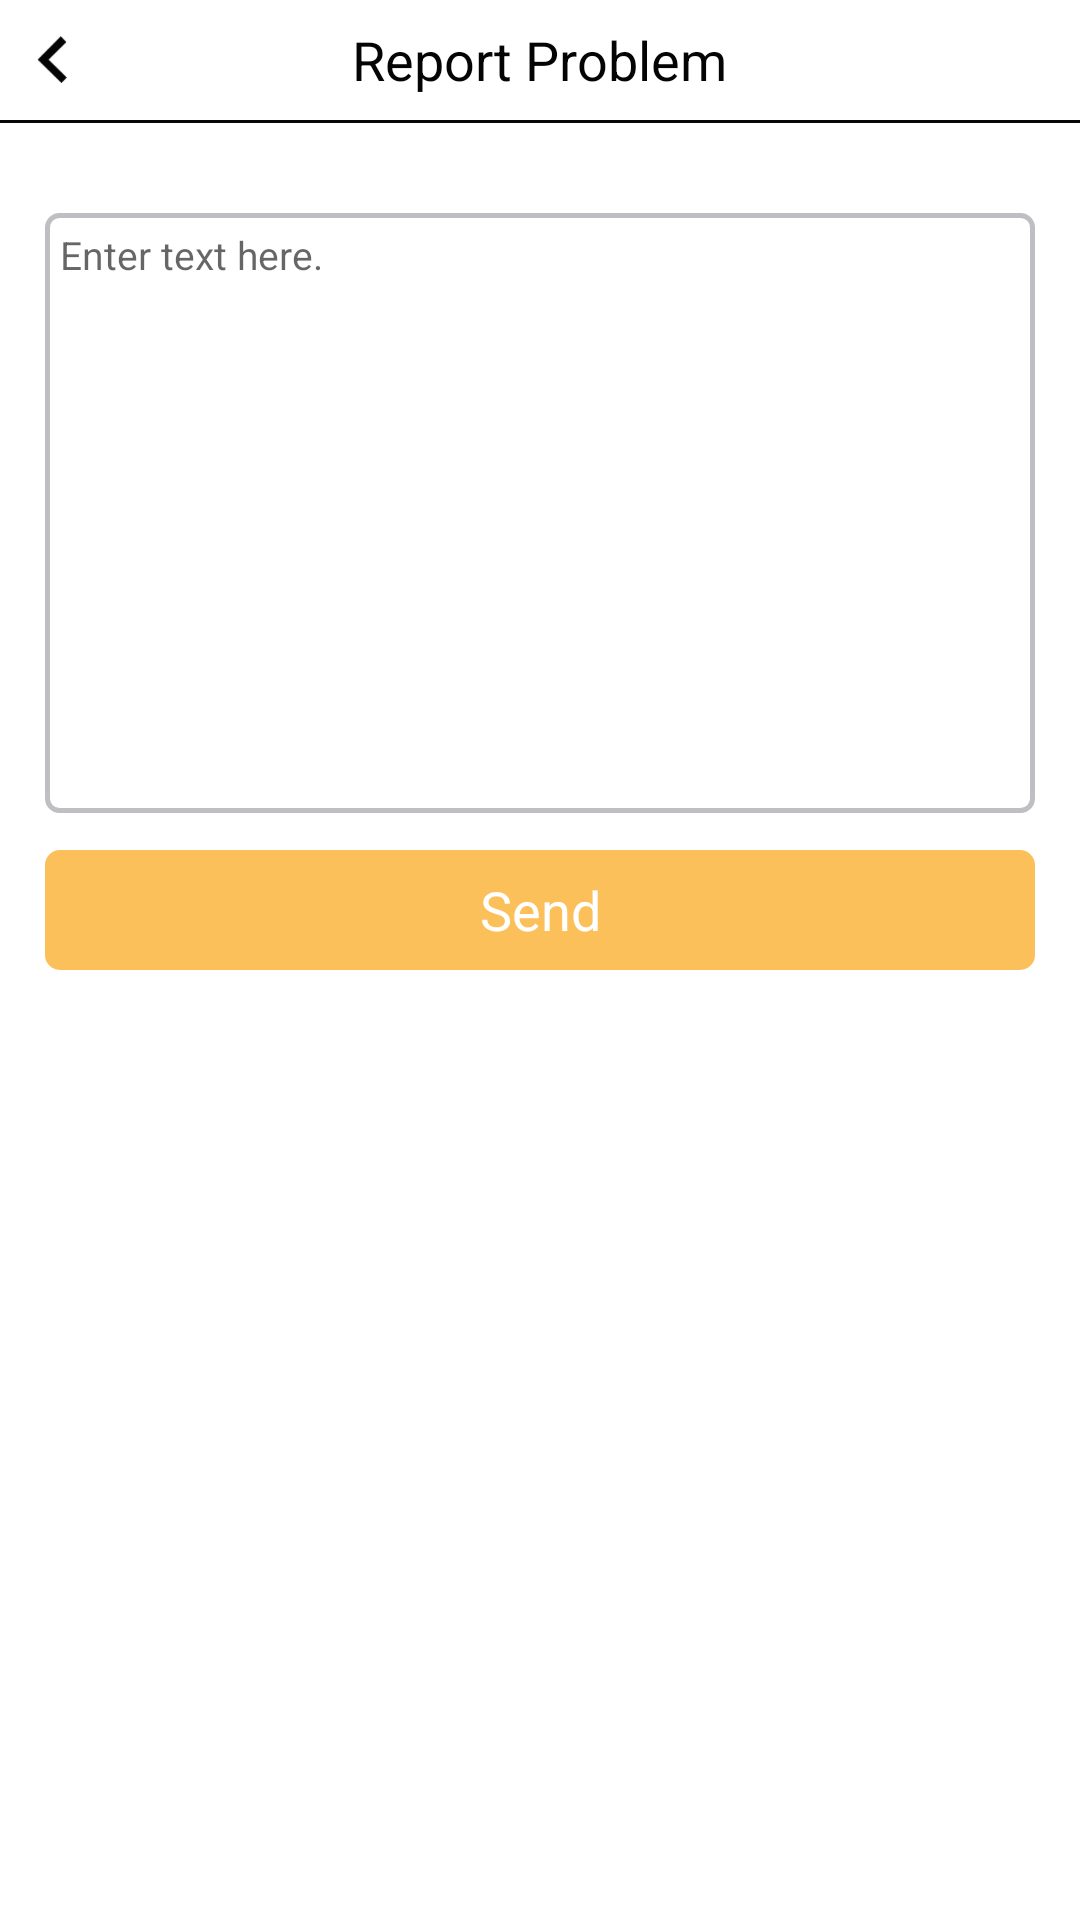

Screen size 1080px x 1920px. Icon name, then its box in pixels as (x1, y1, x2, y2):
back arrow: (37, 36, 67, 83)
